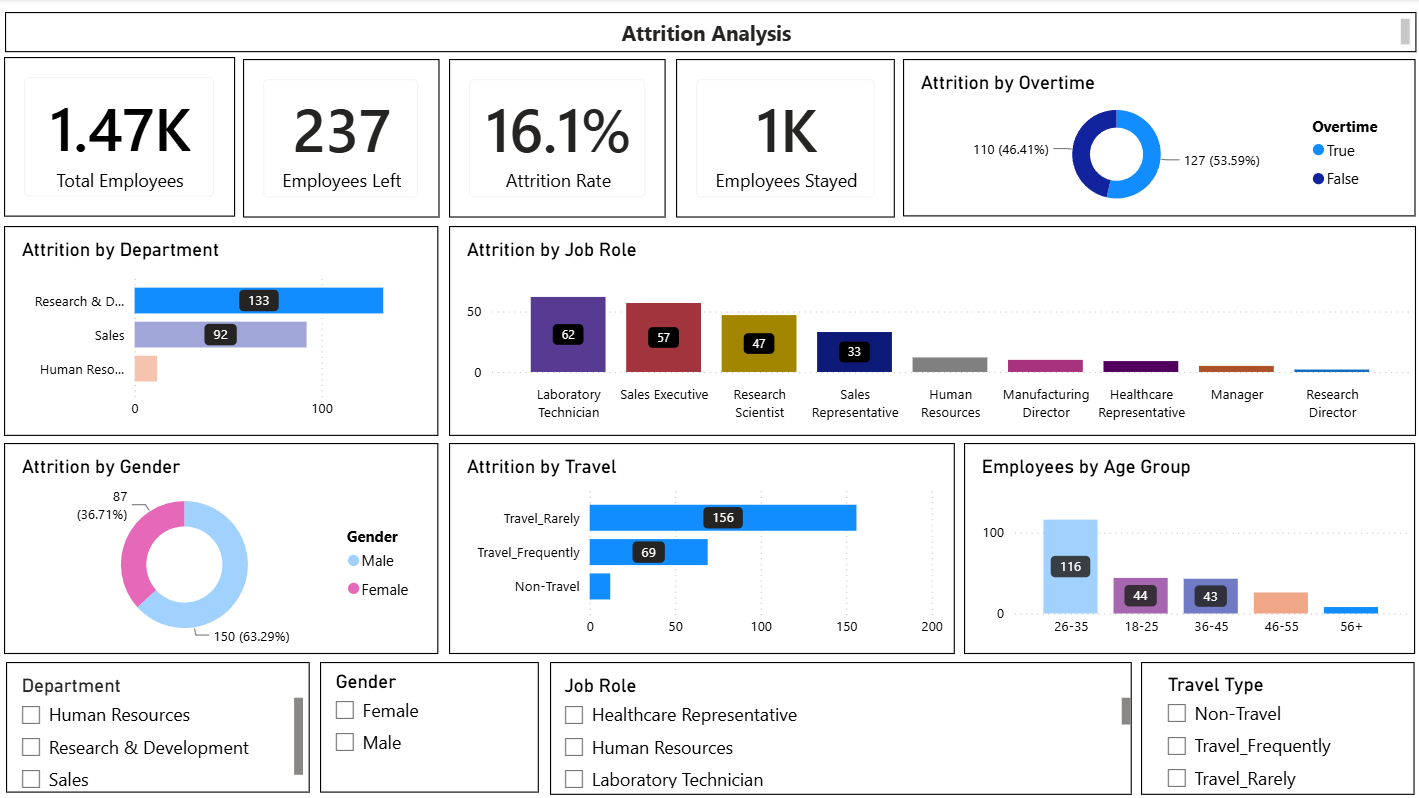

Layout of this report page (visuals, bound fields, positions):
{"tool":"powerbi","page":{"name":"Attrition Analysis","canvas":[1280,720],"ordinal":2},"visuals":[{"type":"textbox","box":[8.1,11.6,1263.6,35.8],"z":0},{"type":"cardVisual","fields":{"Data":["hr business_travel.Total Employees"]},"box":[7.2,51.9,206.9,143.3],"z":1000},{"type":"cardVisual","fields":{"Data":["hr business_travel.Employees Left"]},"box":[221.2,53.7,175.5,142.4],"z":2000},{"type":"cardVisual","fields":{"Data":["hr business_travel.Attrition Rate"]},"box":[405.7,53.7,194.3,142.4],"z":3000},{"type":"cardVisual","fields":{"Data":["hr business_travel.Employees Stayed"]},"box":[609,53.7,196.1,142.4],"z":4000},{"type":"clusteredBarChart","title":"Attrition by Department","fields":{"Category":["hr department.department_name"],"Y":["hr business_travel.Employees Left"]},"box":[6.8,203.3,389.1,187.7],"z":5000},{"type":"clusteredColumnChart","title":"Attrition by Job Role","fields":{"Category":["hr job_role.job_role_name"],"Y":["hr business_travel.Employees Left"]},"box":[405.6,203.3,865.7,187.7],"z":6000},{"type":"donutChart","title":"Attrition by Gender","fields":{"Category":["hr employee.gender"],"Y":["hr business_travel.Employees Left"]},"box":[6.8,397.8,389.1,188.7],"z":7000},{"type":"clusteredBarChart","title":"Attrition by Travel","fields":{"Category":["hr business_travel.business_travel_name"],"Y":["hr business_travel.Employees Left"]},"box":[405.6,397.8,453.3,188.7],"z":8000},{"type":"clusteredColumnChart","title":" Employees by Age Group","fields":{"Category":["hr employee.Age Group"],"Y":["hr business_travel.Employees Left"]},"box":[866.6,397.8,403.6,188.7],"z":9000},{"type":"donutChart","title":"Attrition by Overtime","fields":{"Y":["hr business_travel.Employees Left"],"Category":["hr employee.overtime"]},"box":[812.2,53.7,459.4,141.5],"z":10000},{"type":"slicer","fields":{"Values":["hr department.department_name"]},"box":[8.8,593.3,272.3,116.7],"z":11000},{"type":"slicer","fields":{"Values":["hr employee.gender"]},"box":[289.8,593.3,195.5,116.7],"z":12000},{"type":"slicer","fields":{"Values":["hr job_role.job_role_name"]},"box":[496,593.3,521.3,118.7],"z":13000},{"type":"slicer","fields":{"Values":["hr business_travel.business_travel_name"]},"box":[1025.2,593.3,245.1,118.7],"z":14000}]}

Visuals, with their boxes in screenshot pixels (x1, y1, x2, y2), scaled from the page's 1280x720 canvas onto the 1419x798 screenshot:
textbox: box=[9, 13, 1410, 53]
cardVisual - hr business_travel.Total Employees: box=[8, 58, 237, 216]
cardVisual - hr business_travel.Employees Left: box=[245, 60, 440, 217]
cardVisual - hr business_travel.Attrition Rate: box=[450, 60, 665, 217]
cardVisual - hr business_travel.Employees Stayed: box=[675, 60, 893, 217]
"Attrition by Department" clusteredBarChart: box=[8, 225, 439, 433]
"Attrition by Job Role" clusteredColumnChart: box=[450, 225, 1409, 433]
"Attrition by Gender" donutChart: box=[8, 441, 439, 650]
"Attrition by Travel" clusteredBarChart: box=[450, 441, 952, 650]
" Employees by Age Group" clusteredColumnChart: box=[961, 441, 1408, 650]
"Attrition by Overtime" donutChart: box=[900, 60, 1410, 216]
slicer - hr department.department_name: box=[10, 658, 312, 787]
slicer - hr employee.gender: box=[321, 658, 538, 787]
slicer - hr job_role.job_role_name: box=[550, 658, 1128, 789]
slicer - hr business_travel.business_travel_name: box=[1137, 658, 1408, 789]
